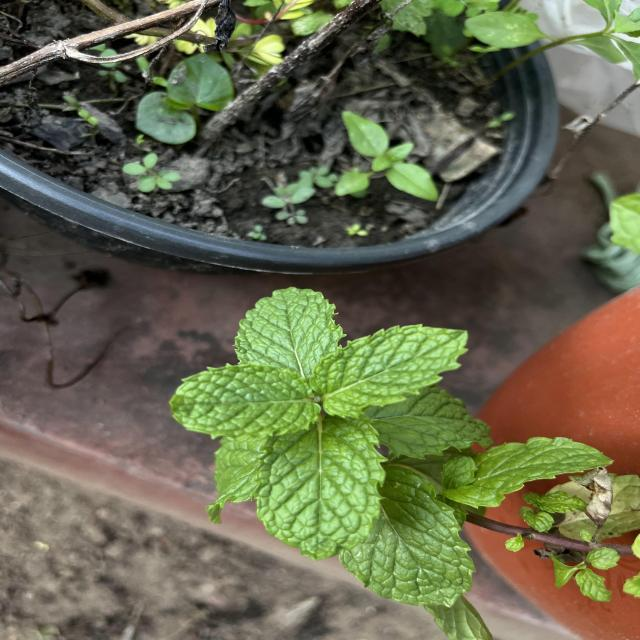Mentha spicata: (249, 419, 390, 562), (308, 321, 471, 422), (168, 361, 322, 445), (231, 284, 348, 370)
